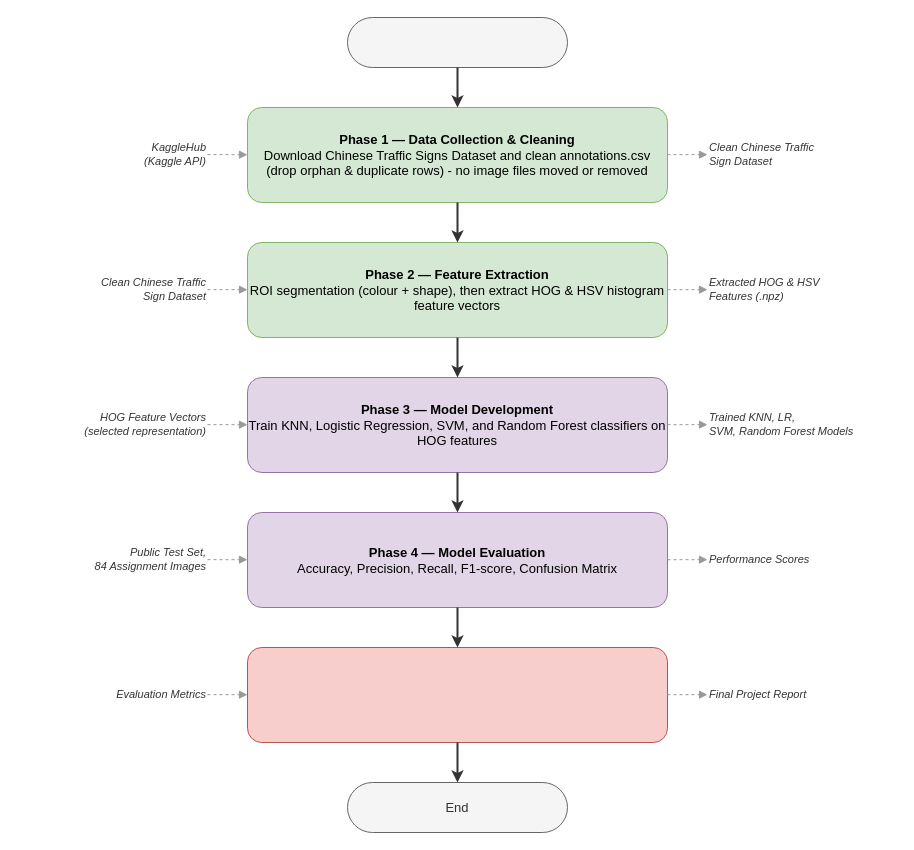
Image size: 914x850. Some labels were removed from this diagram. The centre of each missing label's shape, as x and y in pixels:
"Phase 5 — Key Findings Conclusion, Limitations & Future Work" goes at [457,694].
"Start" goes at [457,42].
